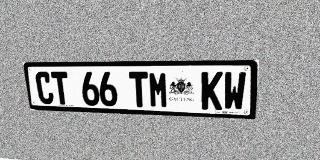6: (80, 72, 100, 106), (98, 72, 118, 106)
C: (35, 72, 55, 104)
K: (201, 72, 223, 110)
M: (148, 72, 169, 108)
T: (129, 72, 149, 108), (51, 72, 71, 105)
W: (223, 72, 246, 111)
